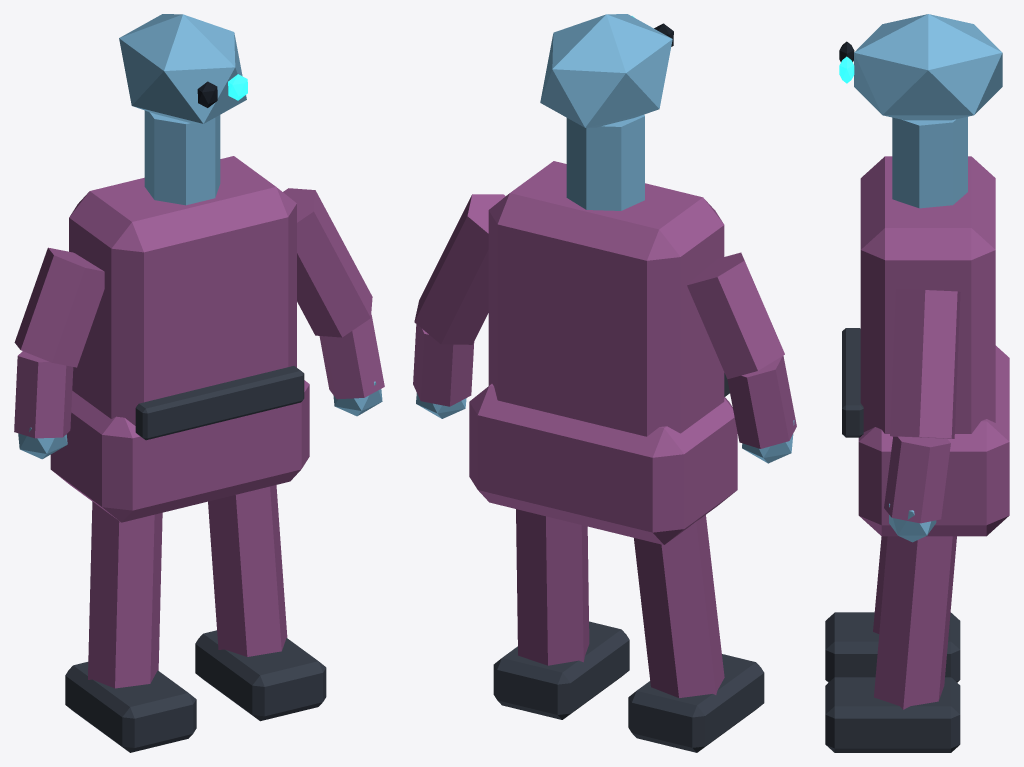
The model's file is npcs_033_seed11.glb.
3 renders of one model, left to right at view 1: azimuth 30°, elevation 25°; view 2: azimuth 150°, elevation 25°; view 3: azimuth 270°, elevation 25°, orthographic. The views are drawn at different scales.
Parts seen in each view (by area): view 1: npcs_033_seed11; view 2: npcs_033_seed11; view 3: npcs_033_seed11.
Part boxes in pixels (x1,y1,x2,y2): npcs_033_seed11: [14, 14, 384, 752]; npcs_033_seed11: [413, 14, 796, 752]; npcs_033_seed11: [825, 14, 1009, 752].
Bounding box in the file's own units: 1.09 × 1.95 × 0.4688.
